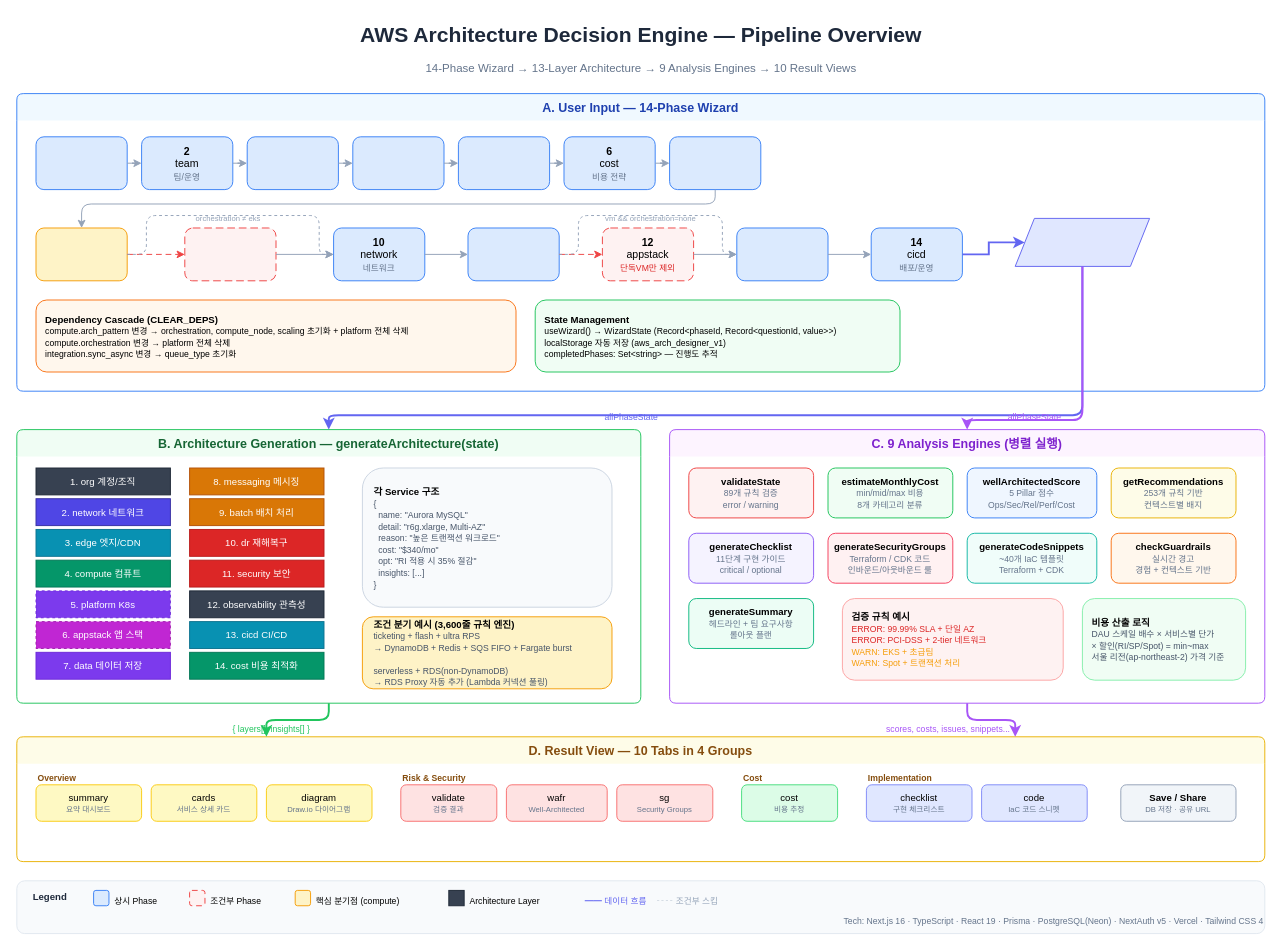
Some shapes in this 1282 by 950 pixel diagram are drawn without their labels. Each missing label, with the centre of its shape:
"1 workload 서비스 정의" belongs at (81,163).
"11 integration 서비스 연결" belongs at (513,254).
"13 edge CDN/WAF" belongs at (782,254).
"3 scale 규모/트래픽" belongs at (292,163).
"4 compliance 보안/규정" belongs at (398,163).
"5 slo 가용성/SLA" belongs at (503,163).
"7 data 데이터 저장" belongs at (715,163).
"8 compute 컴퓨트 선택" belongs at (81,254).
"9 platform EKS일 때만" belongs at (230,254).
"allPhaseState WizardState" belongs at (1082,241).
